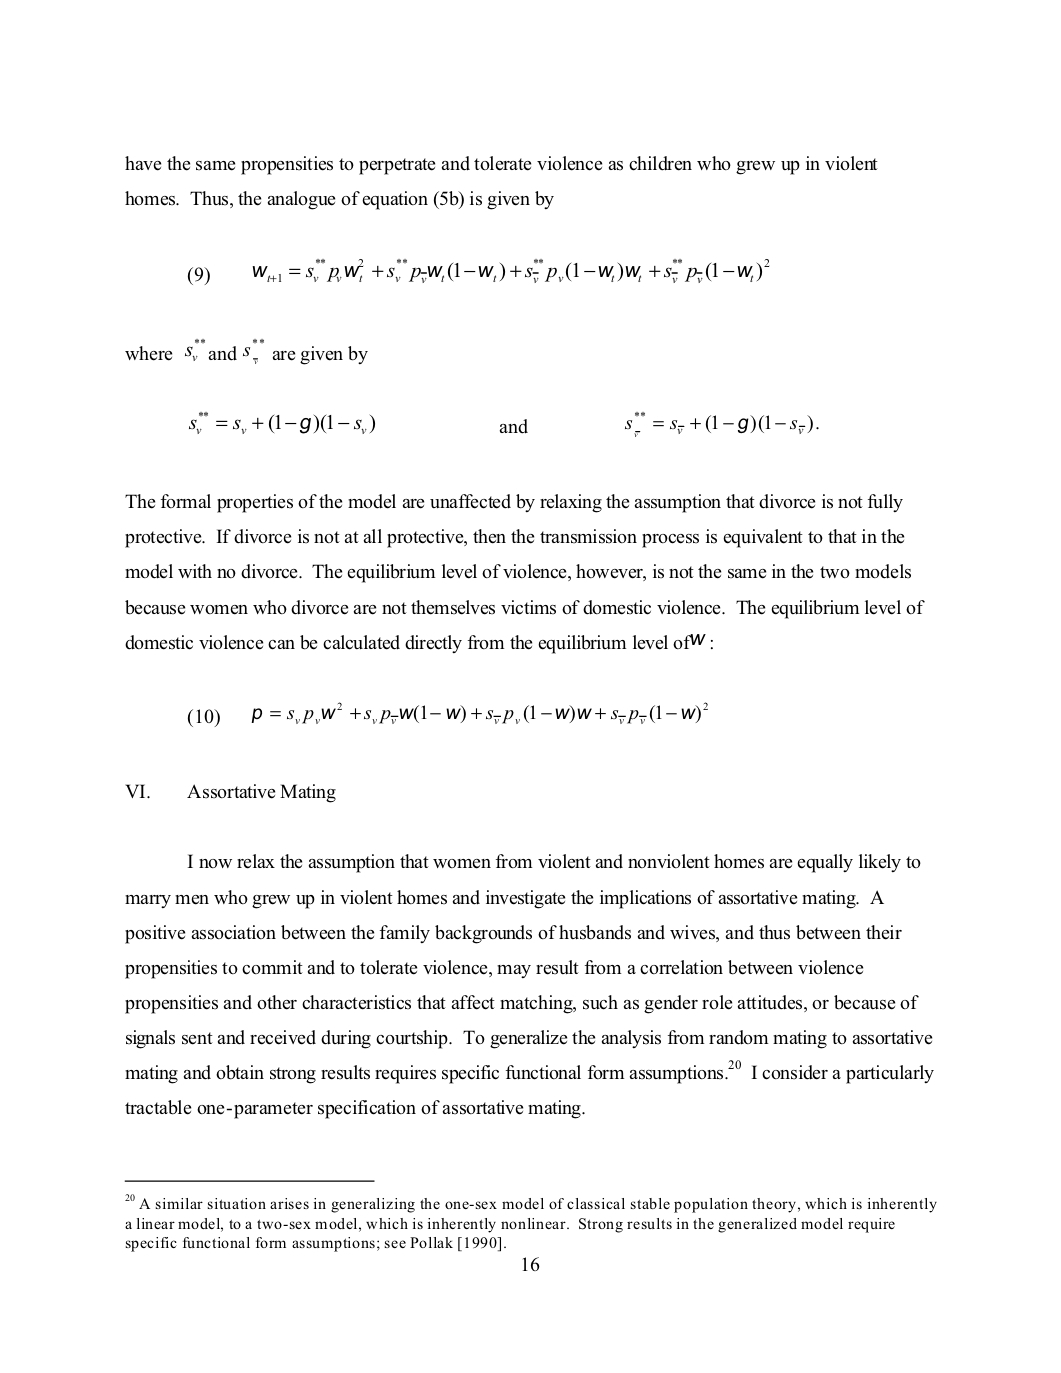figure: (124, 1179, 374, 1182)
formula: (189, 410, 818, 437), (187, 257, 769, 285), (187, 701, 707, 727)
